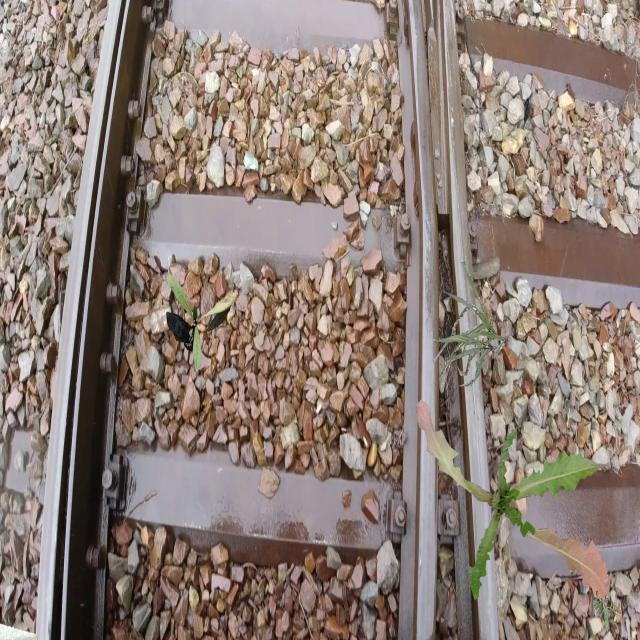Plant: (416, 399, 608, 602), (433, 262, 506, 386), (166, 273, 238, 372), (593, 591, 620, 632)
